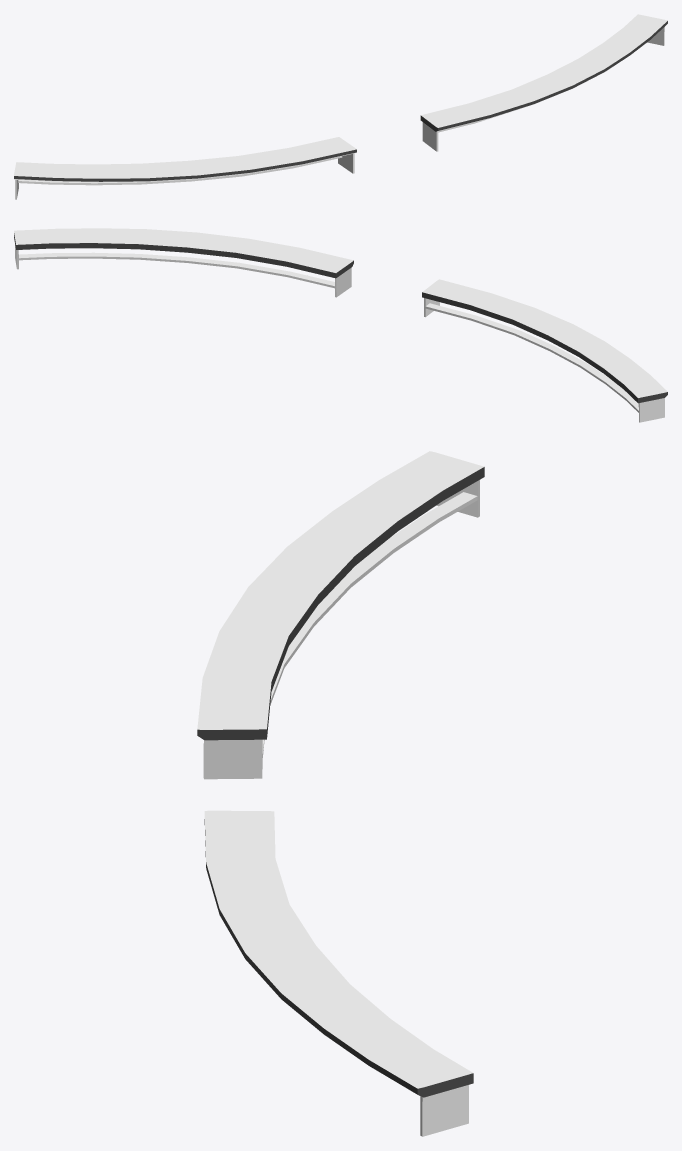
File: SittingChair2.fbx
3 views of the same model, one above another, from view 1: azimuth 30°, elevation 25°; view 2: azimuth 150°, elevation 25°; view 3: azimuth 270°, elevation 25° (orthographic). The views are drawn at different scales.
Visible parts, largest first — view 1: SittingChair2; view 2: SittingChair2; view 3: SittingChair2.
Boxes of the visible parts, x1,y1,x2,y2 form: SittingChair2: [14, 14, 667, 199]; SittingChair2: [14, 228, 667, 422]; SittingChair2: [197, 451, 484, 1136].
Bounding box in the file's own units: 1563 × 60.26 × 299.
Materials: 1 (1 with a texture image).
